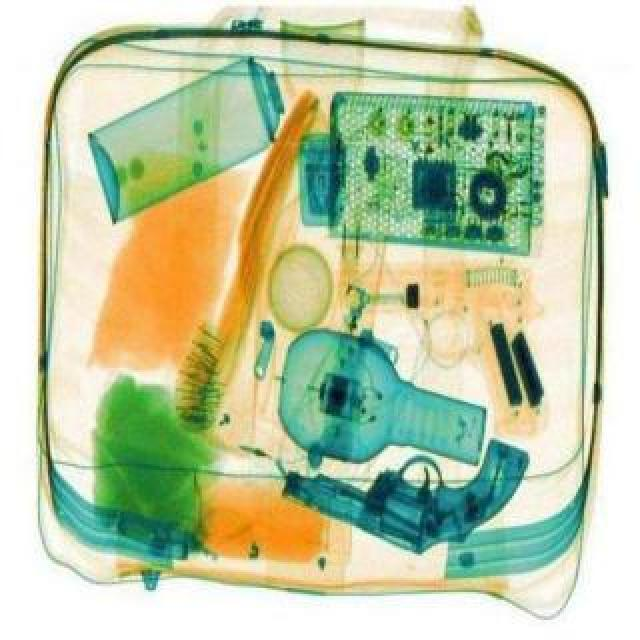gun: (286, 434, 536, 554)
